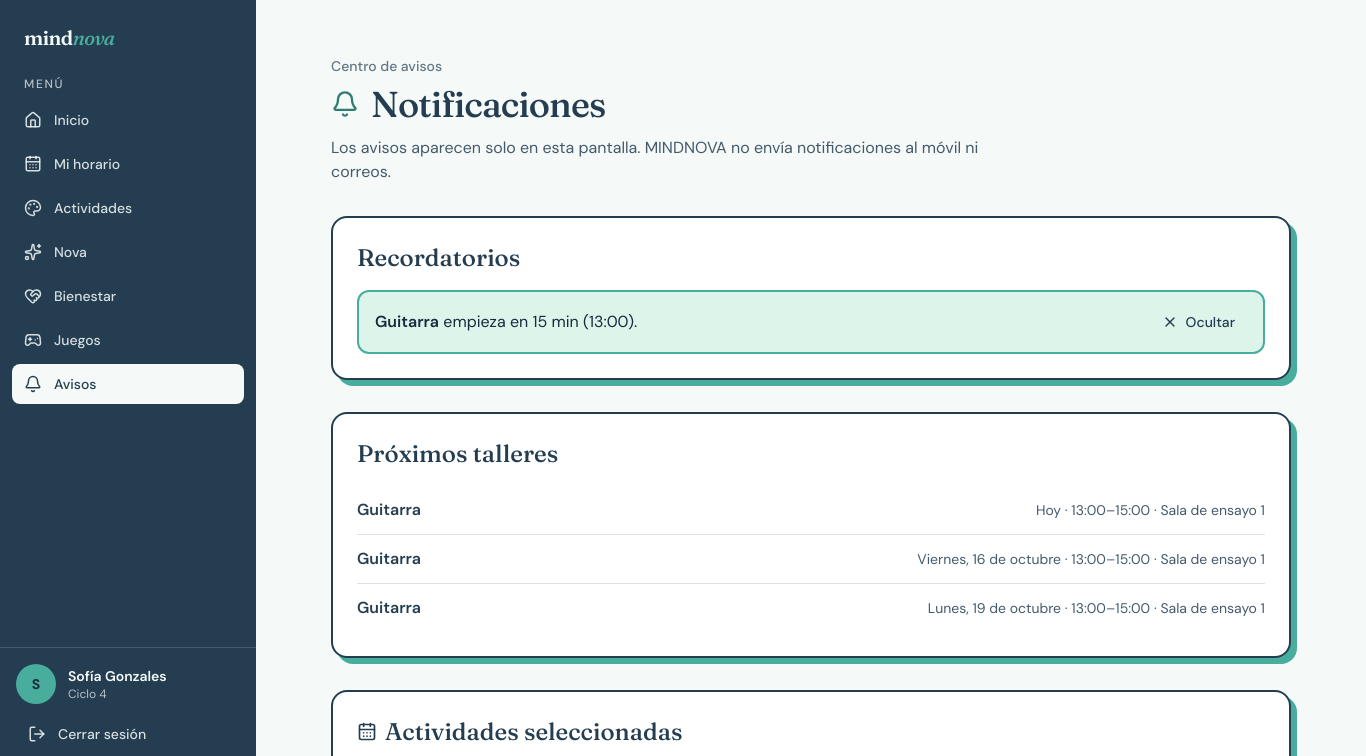
it: Notificaciones · centro de avisos › ocultar un recordatorio lo quita y queda guardado
Click the button with aria-label "Ocultar recordatorio de Guitarra": coordinates (1198, 322) [1150, 304, 1247, 340]
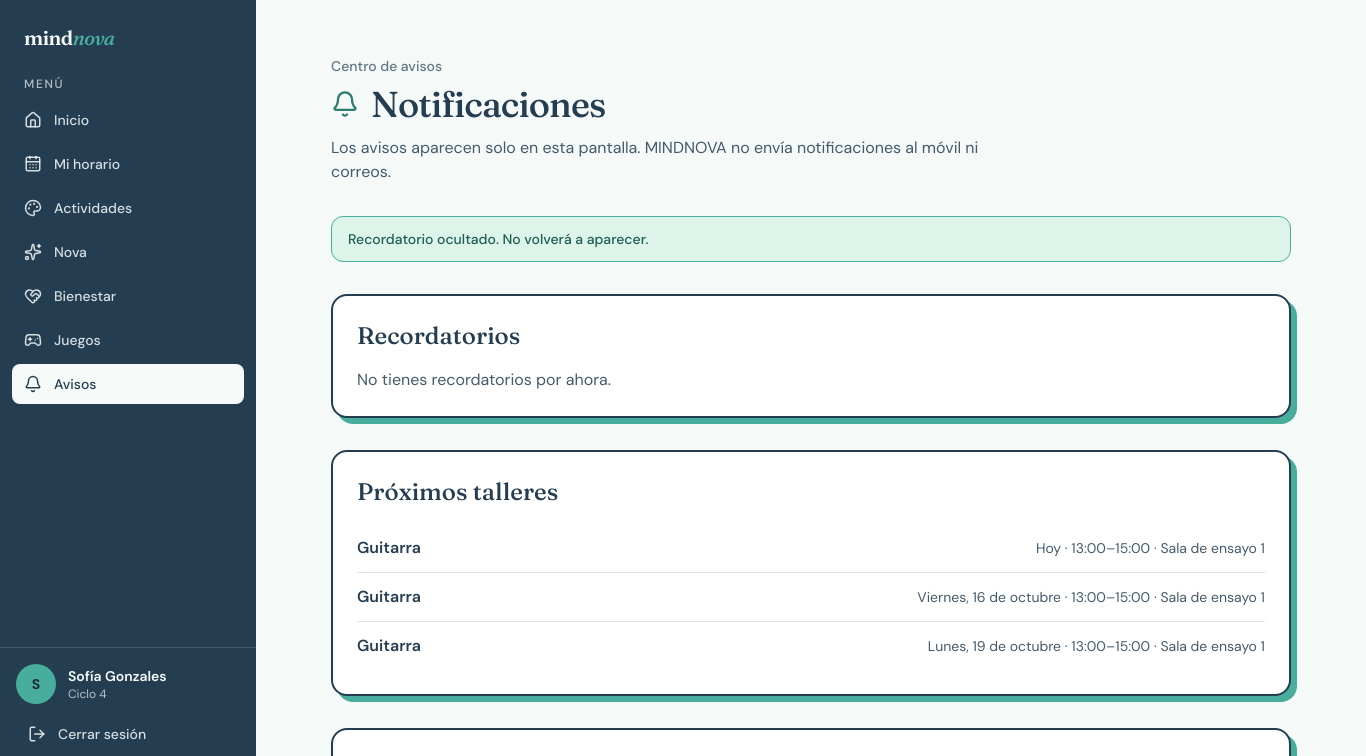
Expected: the message shows "No volverá a aparecer", [348, 230, 648, 248]
Expected: the text "No tienes recordatorios por ahora." is shown, [357, 369, 611, 390]
